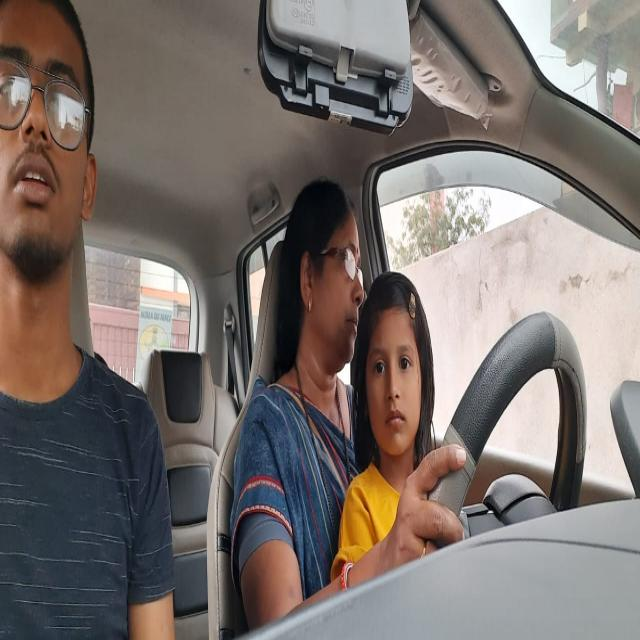child: (360, 276, 434, 464)
person: (1, 2, 106, 296), (284, 155, 366, 374)
